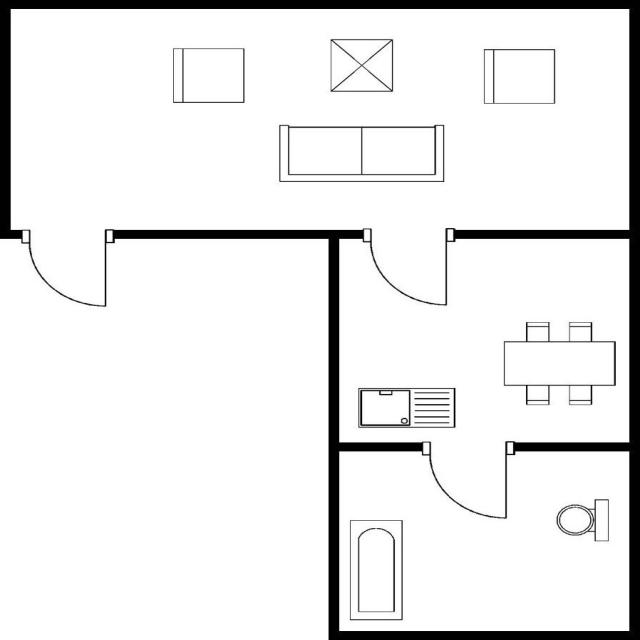coffee_table: (326, 36, 396, 94)
dining_table: (498, 318, 618, 409)
large_sink: (553, 495, 611, 544)
large_sofa: (275, 122, 448, 186)
sink: (354, 384, 458, 430)
small_sofa: (167, 44, 248, 107), (478, 46, 558, 107)
tub: (345, 517, 405, 622)
